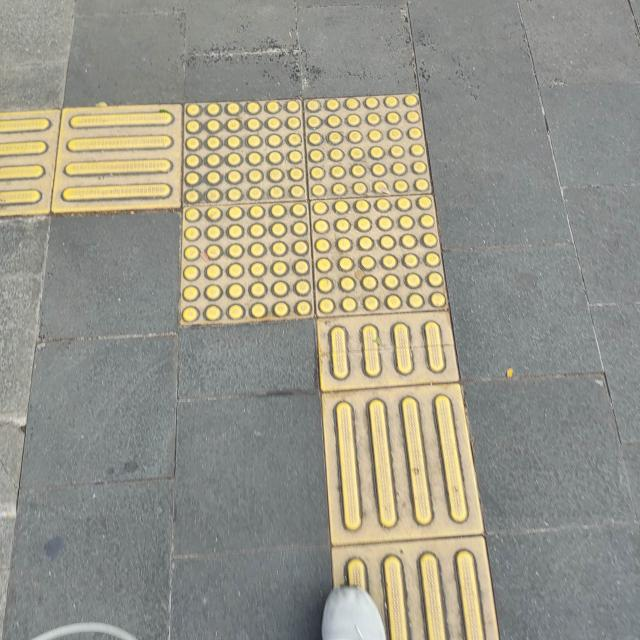kiri: (0, 43, 540, 415)
